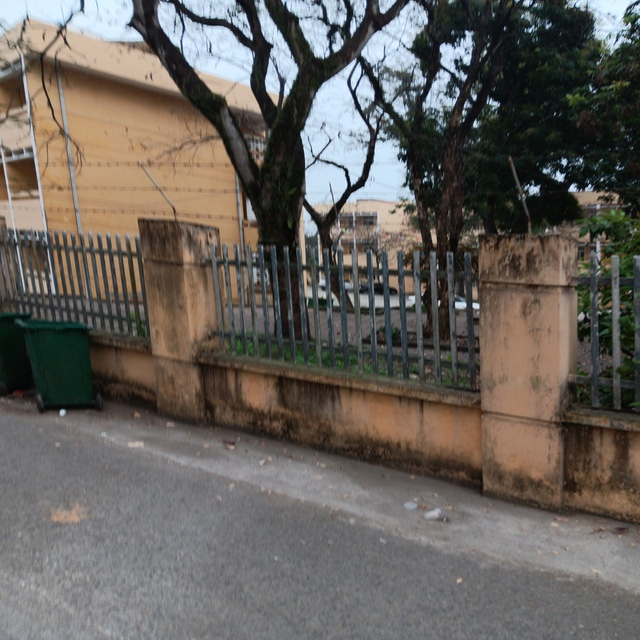thungrac: (23, 319, 98, 416), (1, 309, 28, 395)
